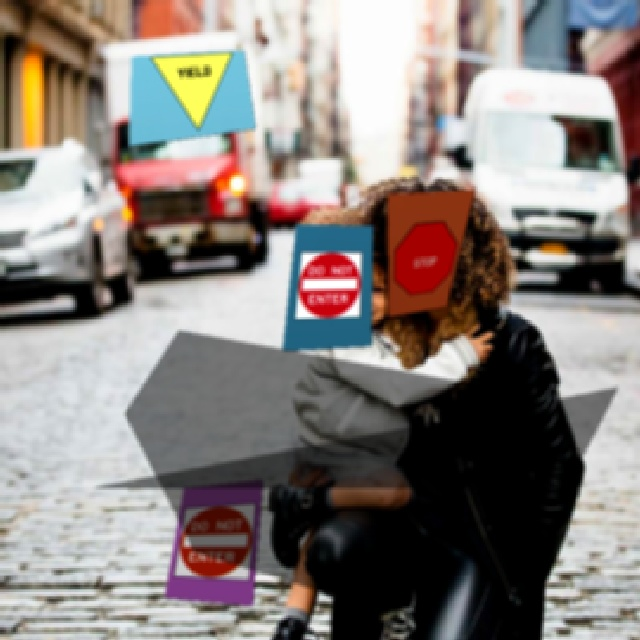DO_NOT_ENTER: (172, 497, 258, 580), (293, 250, 361, 319)
STOP: (385, 218, 462, 296)
YIELD: (144, 48, 241, 135)
